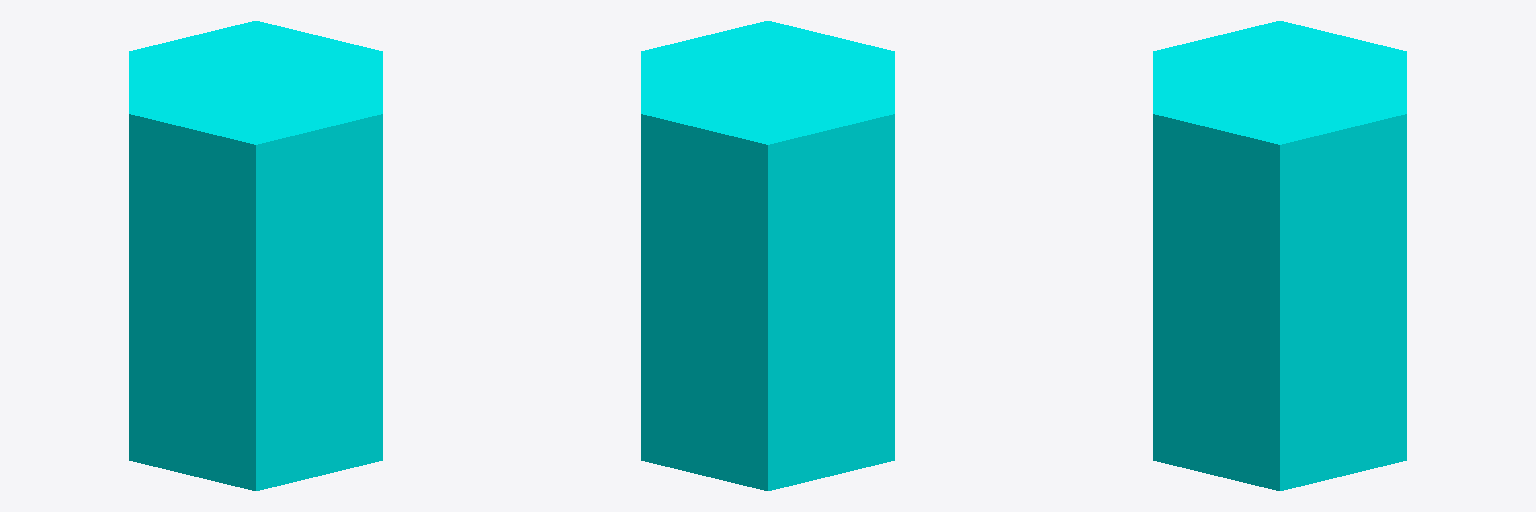
URDF robot description (hexagon):
<?xml version="1.0"?>
<robot name="hexagon">
    <material name="Cyan">
        <color rgba="0 1.0 1.0 1.0"/>
    </material>
    <link name="hexagon">
        <contact>
            <friction_anchor/>
            <lateral_friction value="0.5"/>
            <rolling_friction value="0.005"/>
            <spinning_friction value="0.005"/>
        </contact>

        <inertial>
            <origin xyz="0 0 0" rpy="0 0 0"/>
            <mass value="0.16563"/>
            <inertia ixx="0.00011" ixy="0"  ixz="0" iyy="0.00011" iyz="0" izz="0.00006" />
        </inertial>

        <visual>
            <origin xyz="-0.02887 -0.025 -0.03750" rpy="0 0 0" />
            <geometry>
                <mesh filename="hexagon.STL" scale="0.001 0.001 0.001"/>
            </geometry>
            <material name="Cyan"/>
        </visual>

        <collision>
            <origin xyz="-0.02887 -0.025 -0.03750" rpy="0 0 0" />
            <geometry>
                <mesh filename="hexagon.STL" scale="0.001 0.001 0.001"/>
            </geometry>
        </collision>
    </link>
</robot>

--- Facts derived from the render (not from the file) ---
The picture shows the robot from 3 angles, left to right: view 1: azimuth 30°, elevation 25°; view 2: azimuth 150°, elevation 25°; view 3: azimuth 270°, elevation 25°; orthographic projection.
Robot: hexagon — 1 links, 0 joints (none); root link hexagon; default pose: every joint at zero.
Visible links, largest first — view 1: hexagon; view 2: hexagon; view 3: hexagon.
Link boxes in pixels (x1,y1,x2,y2): hexagon: (129, 21, 382, 490); hexagon: (641, 21, 894, 490); hexagon: (1153, 21, 1406, 490).
Bounding box of the posed robot: 0.0577 × 0.05 × 0.075 m (x, y, z).
1 mesh visuals loaded from 1 distinct referenced files (1 binary STL).